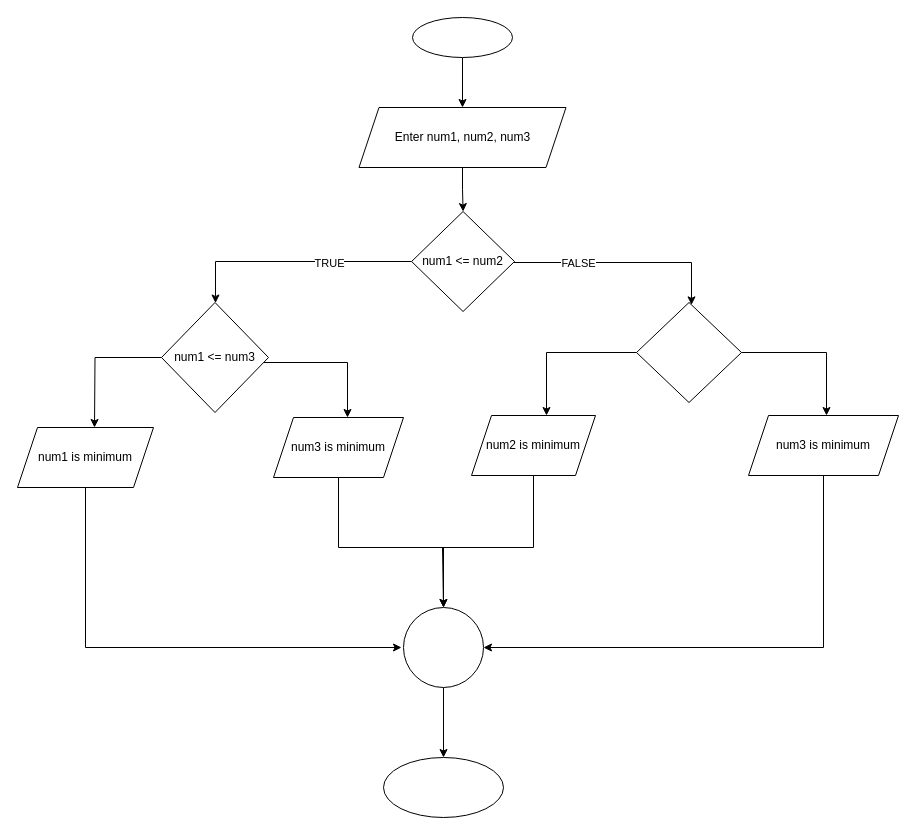
This 916x835 diagram has some shape labels left out. The box of each missing label's shape, as (x1, y1, x2, y2) in pixels:
End: (382, 756, 504, 818)
num2 <= num3: (636, 302, 742, 402)
Start: (412, 16, 512, 58)
